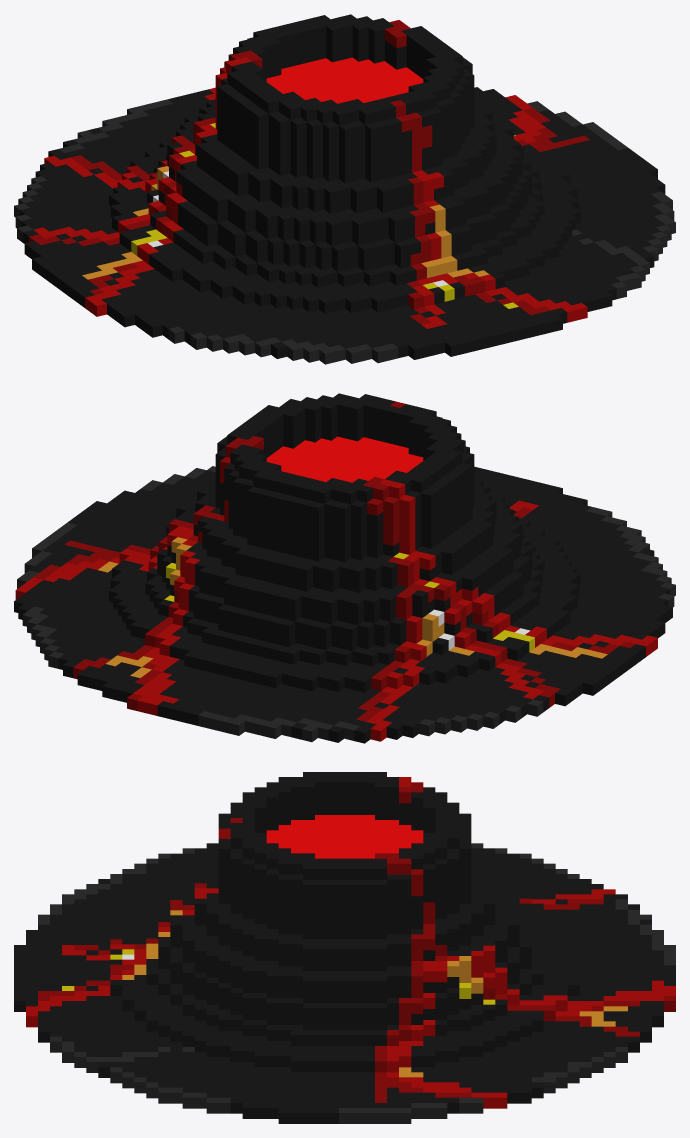
The model's file is lava_vol.obj.
3 renders of one model, top to bottom at view 1: azimuth 30°, elevation 25°; view 2: azimuth 150°, elevation 25°; view 3: azimuth 270°, elevation 25°, orthographic. The views are drawn at different scales.
Parts seen in each view (by area): view 1: lava_vol; view 2: lava_vol; view 3: lava_vol.
Part boxes in pixels (x1=…): lava_vol: x1=14, y1=14, x2=675, y2=364; lava_vol: x1=14, y1=393, x2=675, y2=743; lava_vol: x1=14, y1=772, x2=675, y2=1123.
Size of the model in its own units: 55 by 15 by 55.
1 material, 1 textured.
